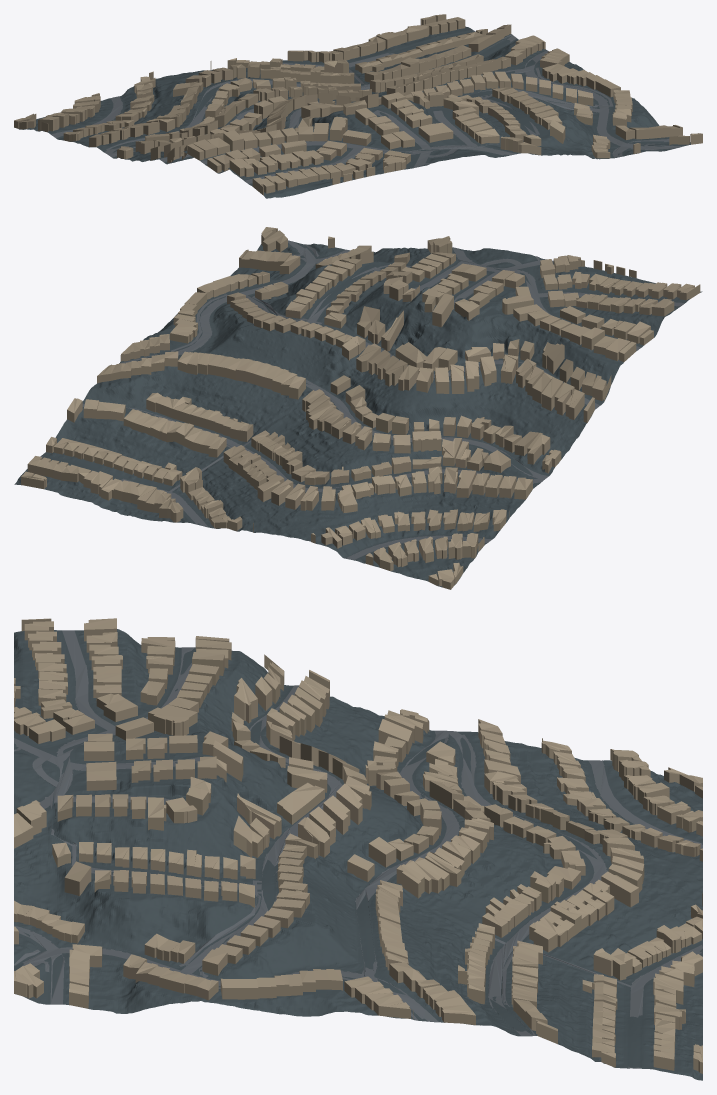
File: epsg26910-1427-10876.lod0.glb
3 views of the same model, one above another, from view 1: azimuth 30°, elevation 25°; view 2: azimuth 150°, elevation 25°; view 3: azimuth 270°, elevation 25° (orthographic). The views are drawn at different scales.
Visible parts, largest first — view 1: epsg26910-1427-10876-lod0; view 2: epsg26910-1427-10876-lod0; view 3: epsg26910-1427-10876-lod0.
Part boxes in pixels (box(x1,y1,x2,y2)): epsg26910-1427-10876-lod0: box(14, 14, 702, 198); epsg26910-1427-10876-lod0: box(14, 227, 702, 589); epsg26910-1427-10876-lod0: box(14, 618, 702, 1080).
Size of the model in its own units: 384 by 109 by 384.
